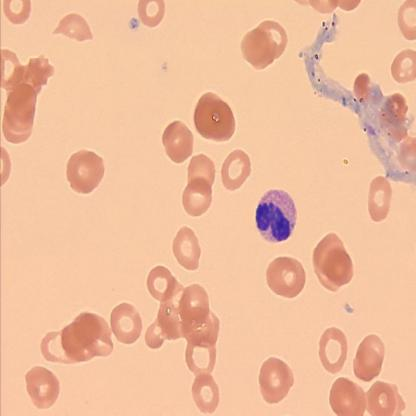Band Neutrophil: (254, 186, 298, 245)
